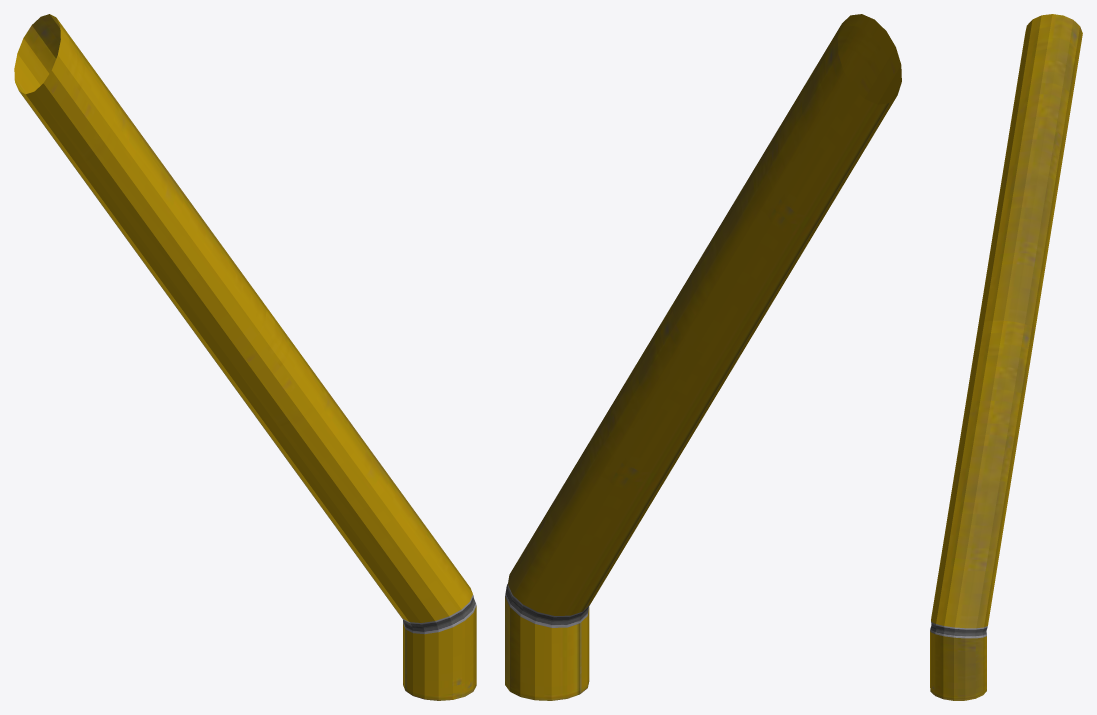
File: 透明管子.obj
3 views of the same model, side by side, from view 1: azimuth 30°, elevation 25°; view 2: azimuth 150°, elevation 25°; view 3: azimuth 270°, elevation 25° (orthographic). The views are drawn at different scales.
Parts seen in each view (by area): view 1: Line010; view 2: Line010; view 3: Line010.
Part boxes in pixels (left/top/right/bottom): Line010: left=14, top=14, right=476, bottom=700; Line010: left=505, top=14, right=901, bottom=700; Line010: left=930, top=14, right=1082, bottom=700.
Bounding box in the file's own units: 16.9 × 29.06 × 7.3.
